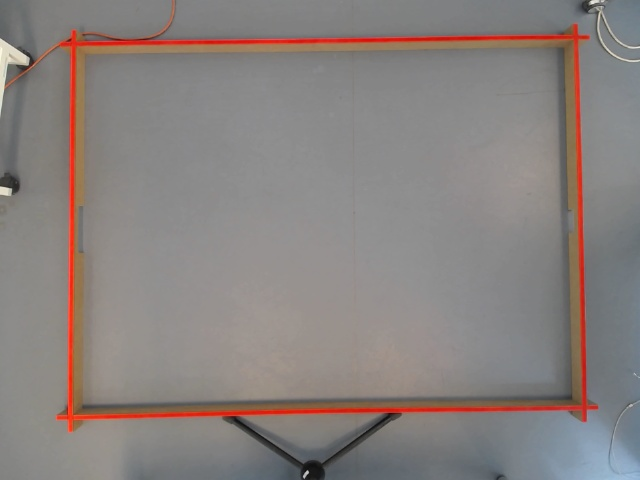big_goal: (69, 203, 89, 252)
small_goal: (562, 207, 584, 237)
wall: (57, 393, 604, 423), (59, 27, 592, 57), (558, 23, 594, 429), (59, 24, 90, 429)
